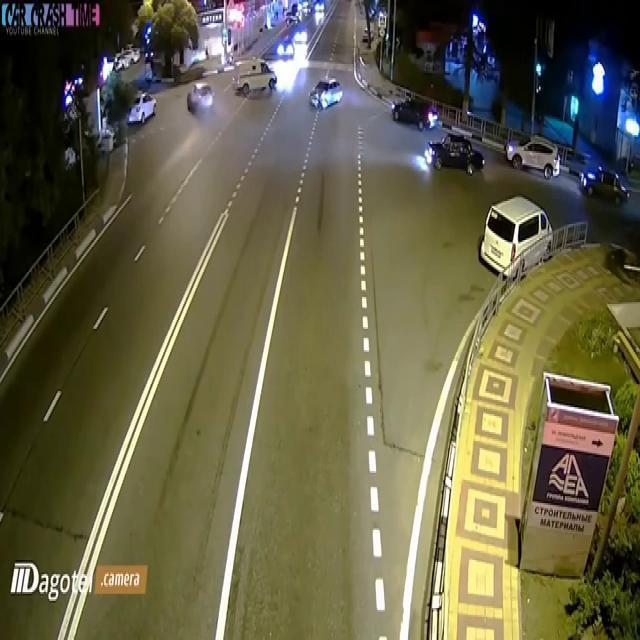accident: (186, 77, 342, 117)
non-accident: (506, 135, 632, 209), (392, 99, 486, 175), (277, 23, 309, 59)
